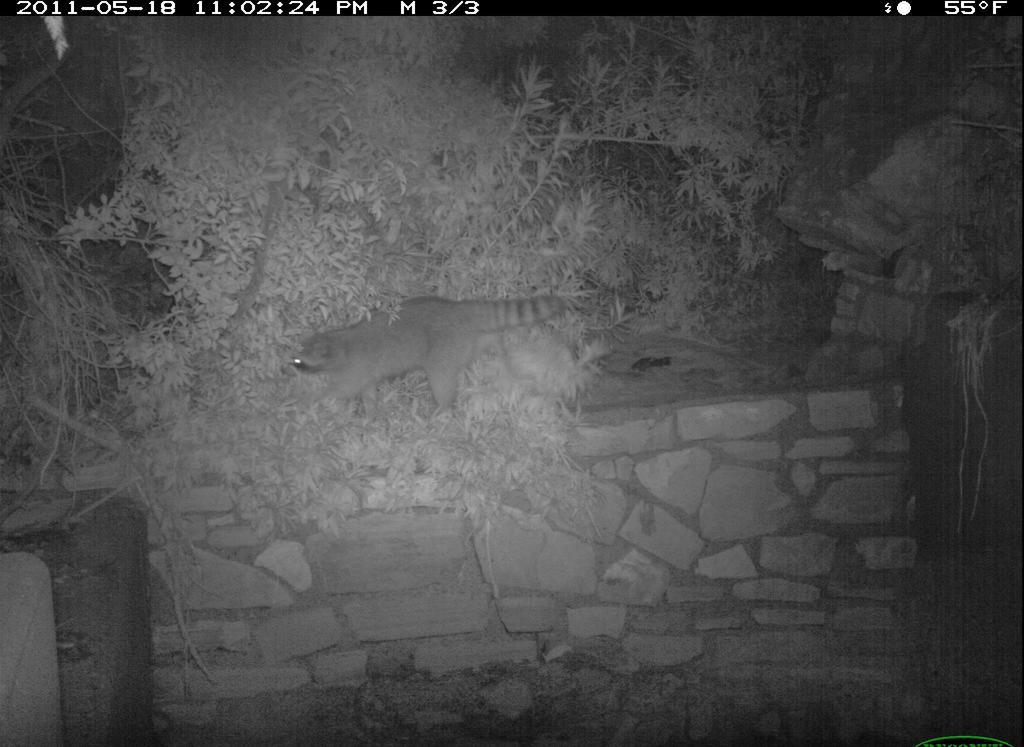raccoon: (287, 283, 574, 436)
